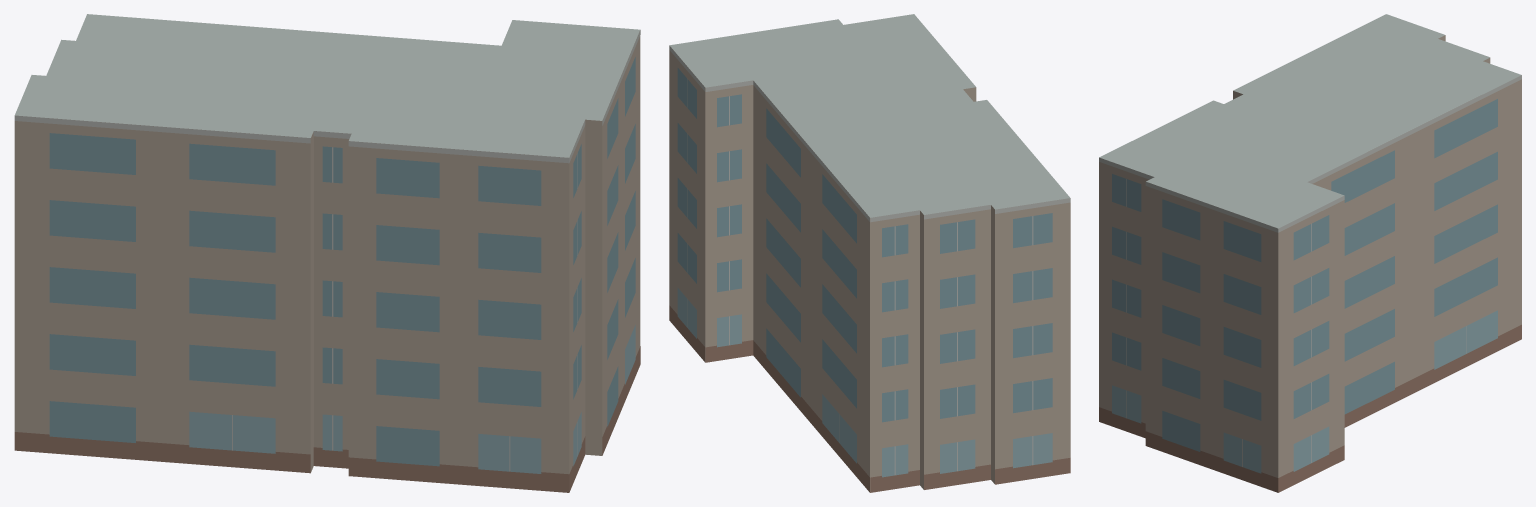
Rendered from survey-upis-32656968.glb.
3 views of the same model, side by side, from view 1: azimuth 30°, elevation 25°; view 2: azimuth 150°, elevation 25°; view 3: azimuth 270°, elevation 25° (orthographic). The views are drawn at different scales.
Visible parts, largest first — view 1: survey-upis-32656968.tmp; view 2: survey-upis-32656968.tmp; view 3: survey-upis-32656968.tmp.
Boxes of the visible parts, x1,y1,x2,y2 form: survey-upis-32656968.tmp: (14, 14, 640, 492); survey-upis-32656968.tmp: (669, 14, 1070, 492); survey-upis-32656968.tmp: (1099, 14, 1521, 492).
Size of the model in its own units: 26.29 by 15.1 by 21.89.
